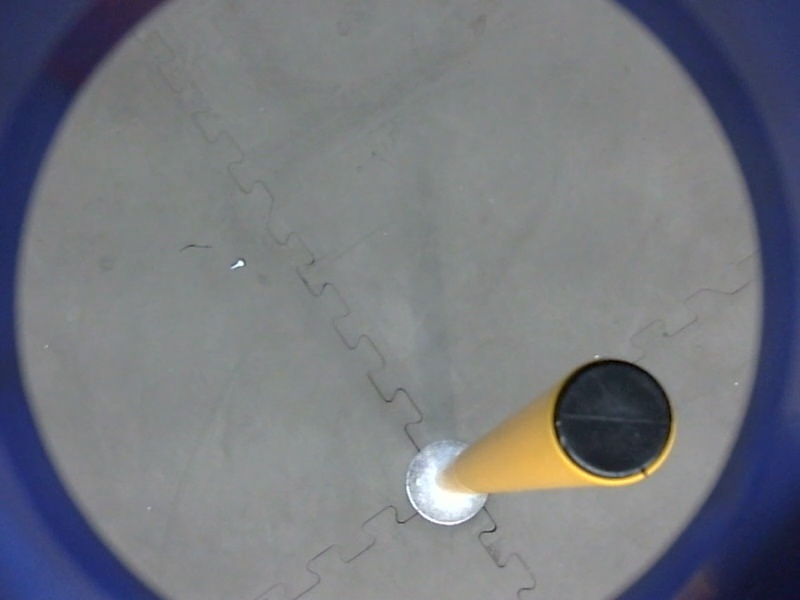tip: (545, 352, 687, 493)
